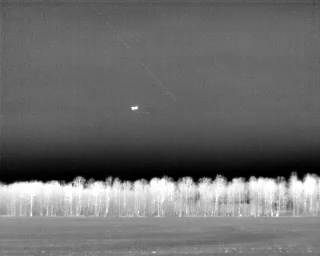DRONE: (128, 102, 142, 114)
